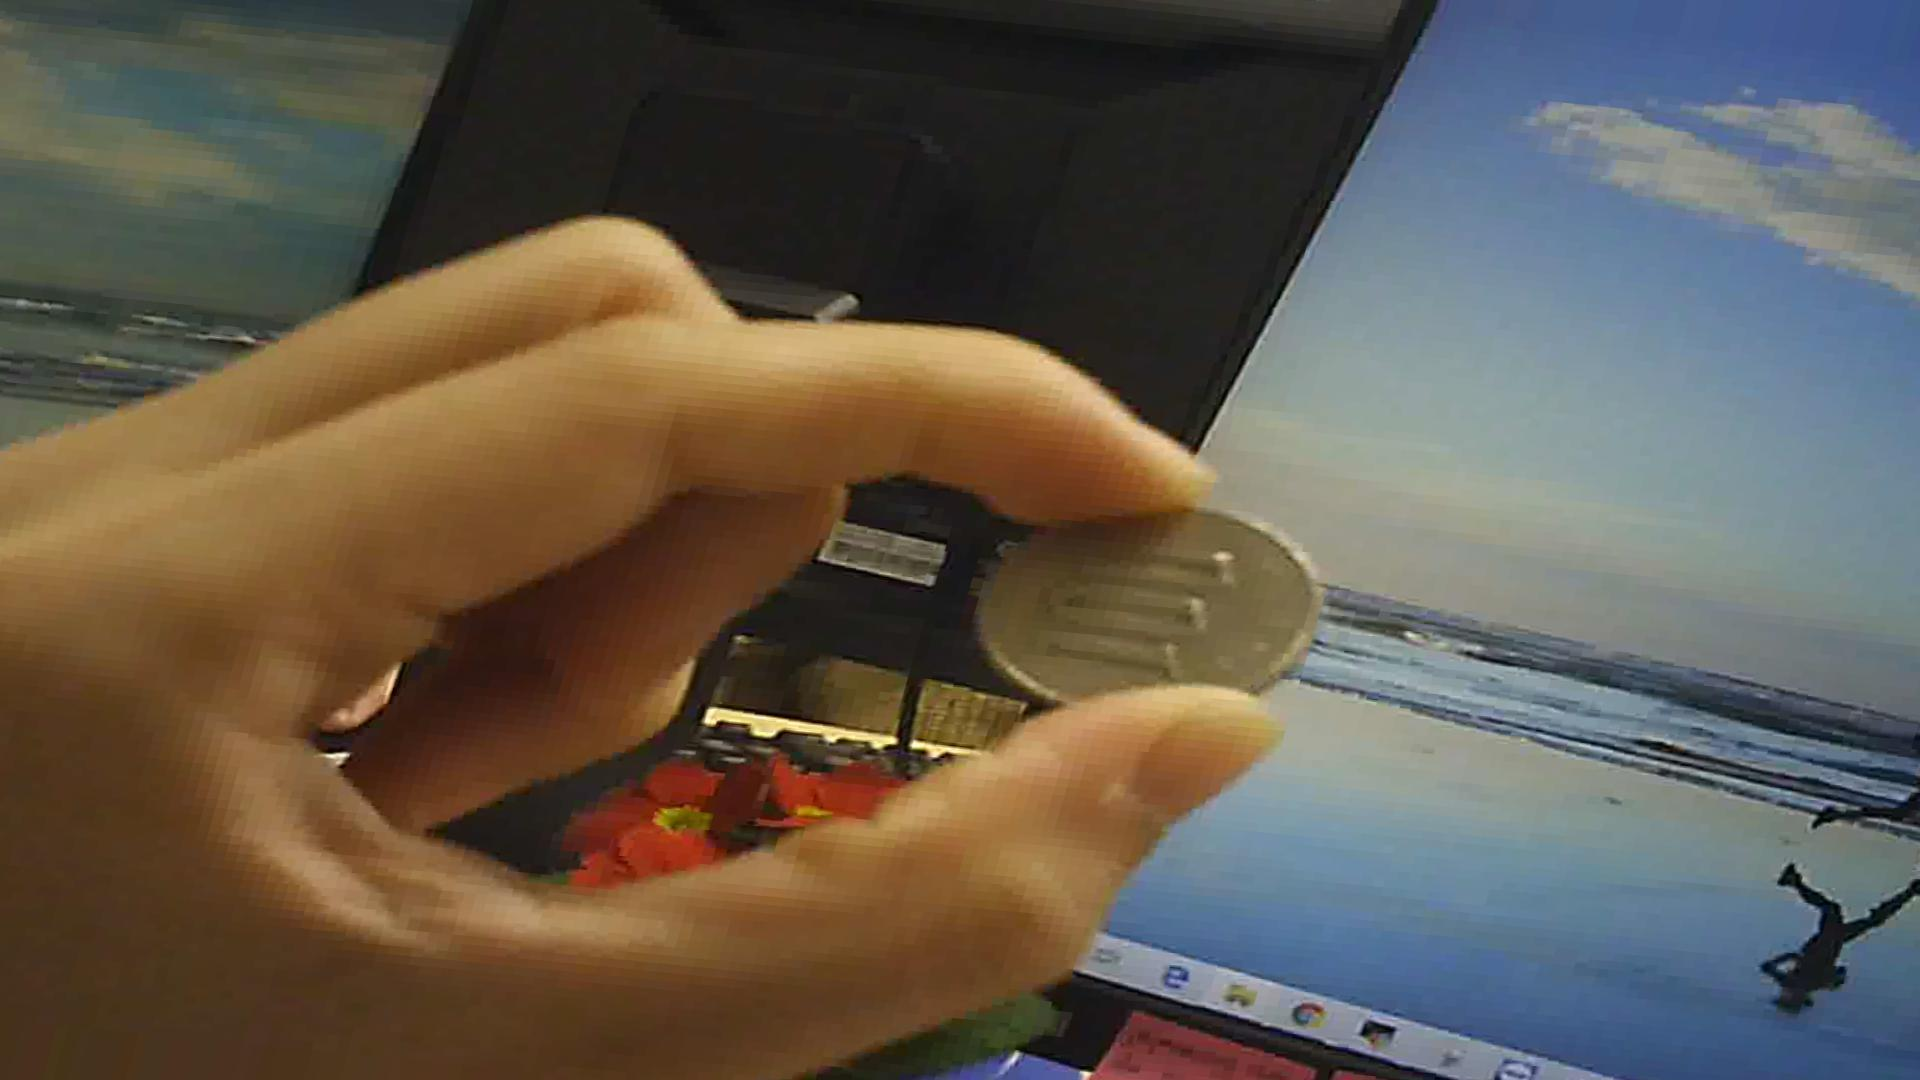100 Yen: (977, 510, 1292, 738)
